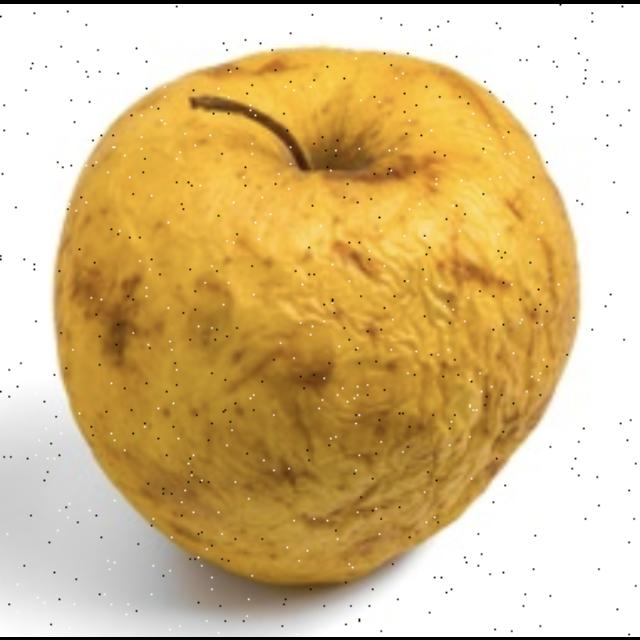Apel Tidak Segar: (52, 38, 584, 594)
